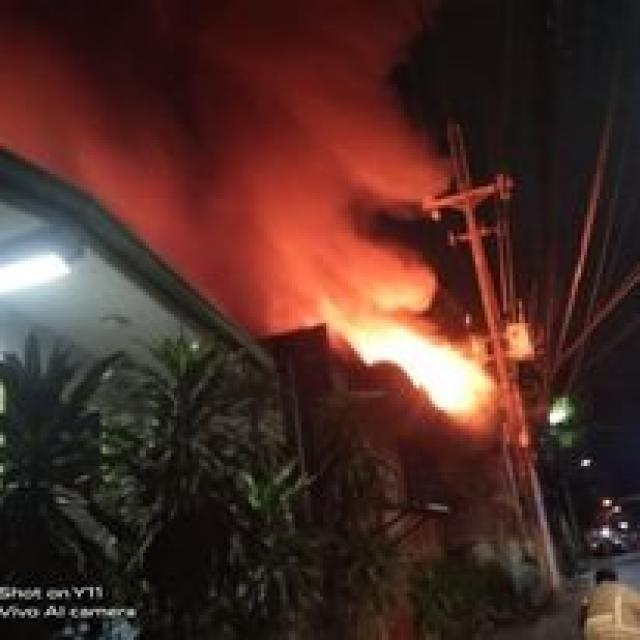Fire: (334, 305, 502, 428)
Smoke: (0, 0, 454, 305)
